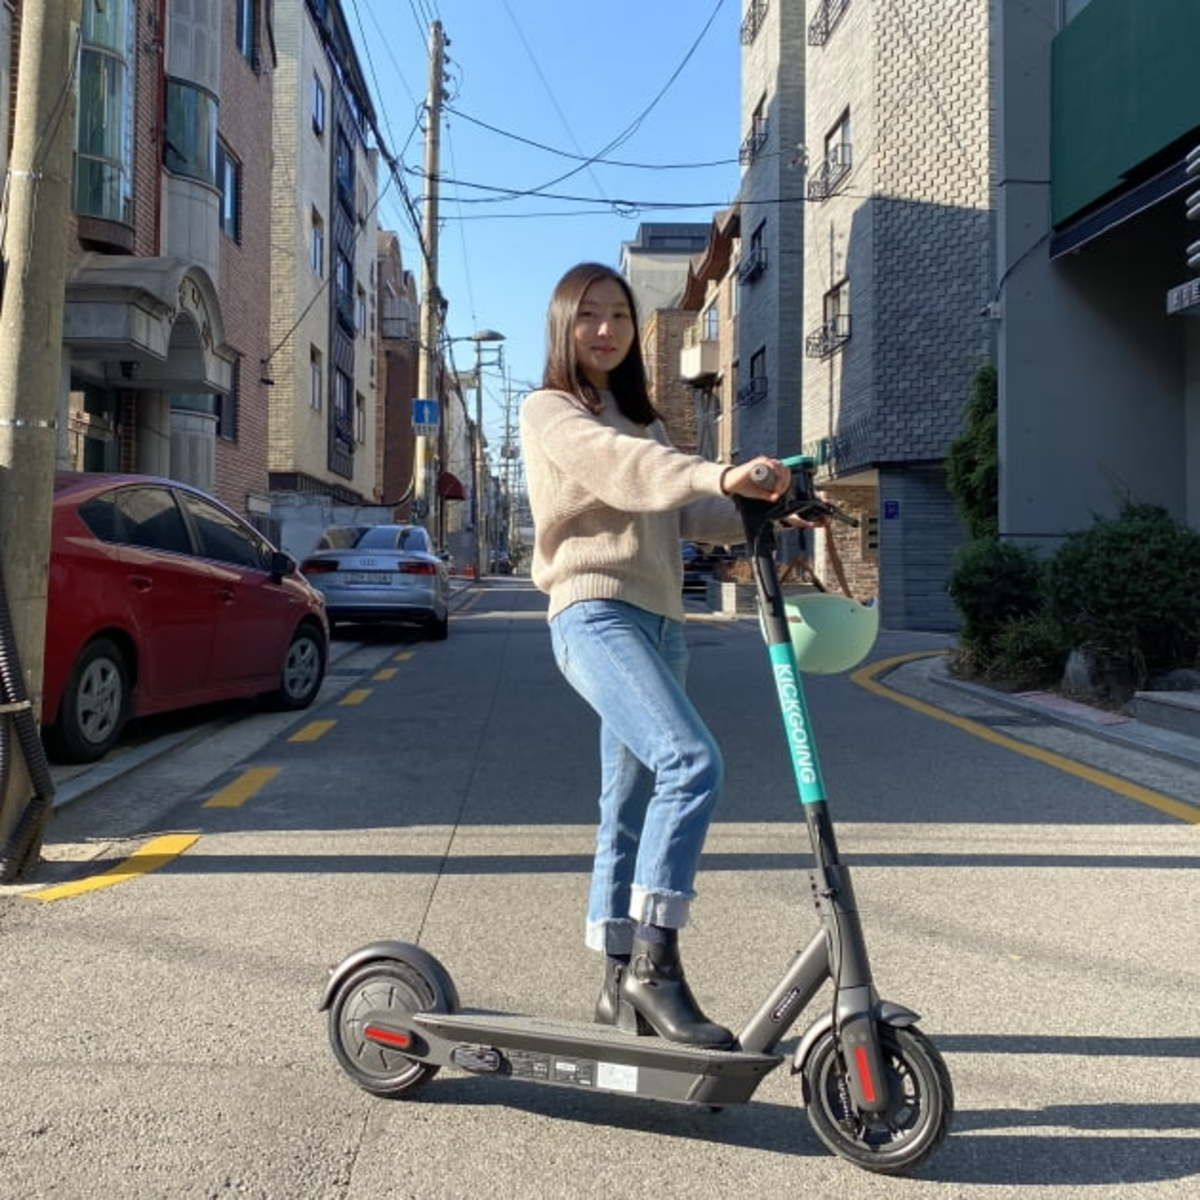scooter: (321, 438, 962, 1173)
